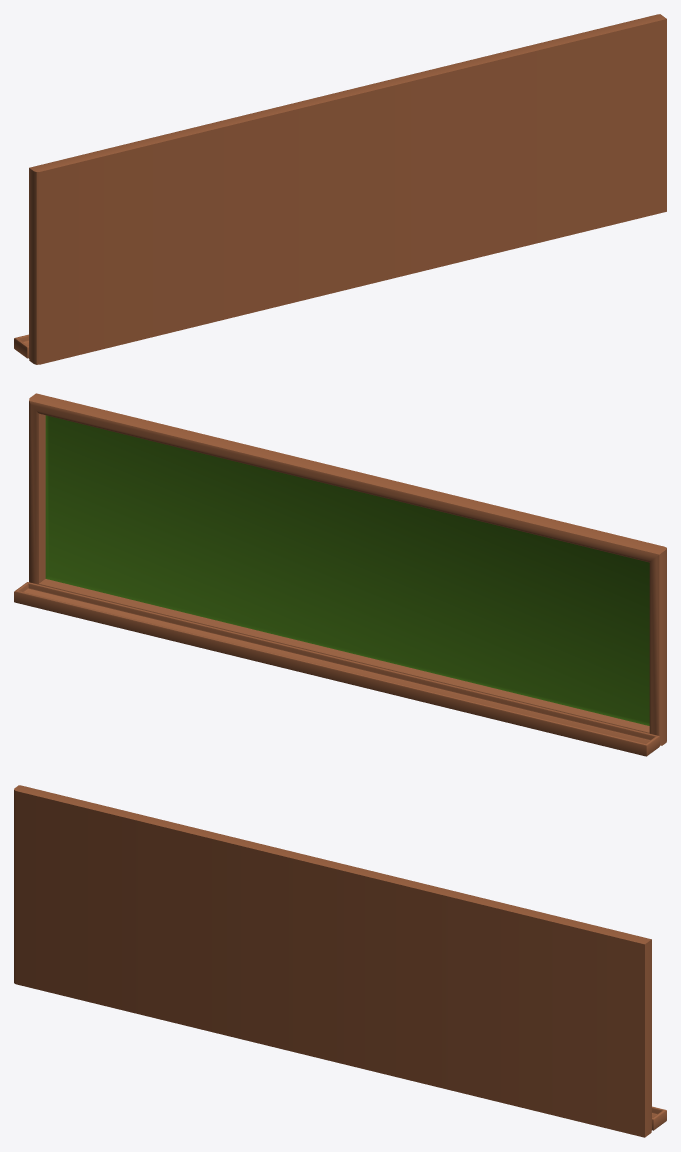
The model's file is blackboard.glb.
3 renders of one model, top to bottom at view 1: azimuth 30°, elevation 25°; view 2: azimuth 150°, elevation 25°; view 3: azimuth 330°, elevation 25°, orthographic.
Visible parts, largest first — view 1: Cube; view 2: Cube; view 3: Cube.
Boxes of the visible parts, bbox=[...] form: Cube: bbox=[14, 14, 666, 364]; Cube: bbox=[14, 393, 666, 756]; Cube: bbox=[14, 785, 666, 1137].
Size of the model in its own units: 4.55 by 1.33 by 0.2758.
Materials: 1 (1 with a texture image).
